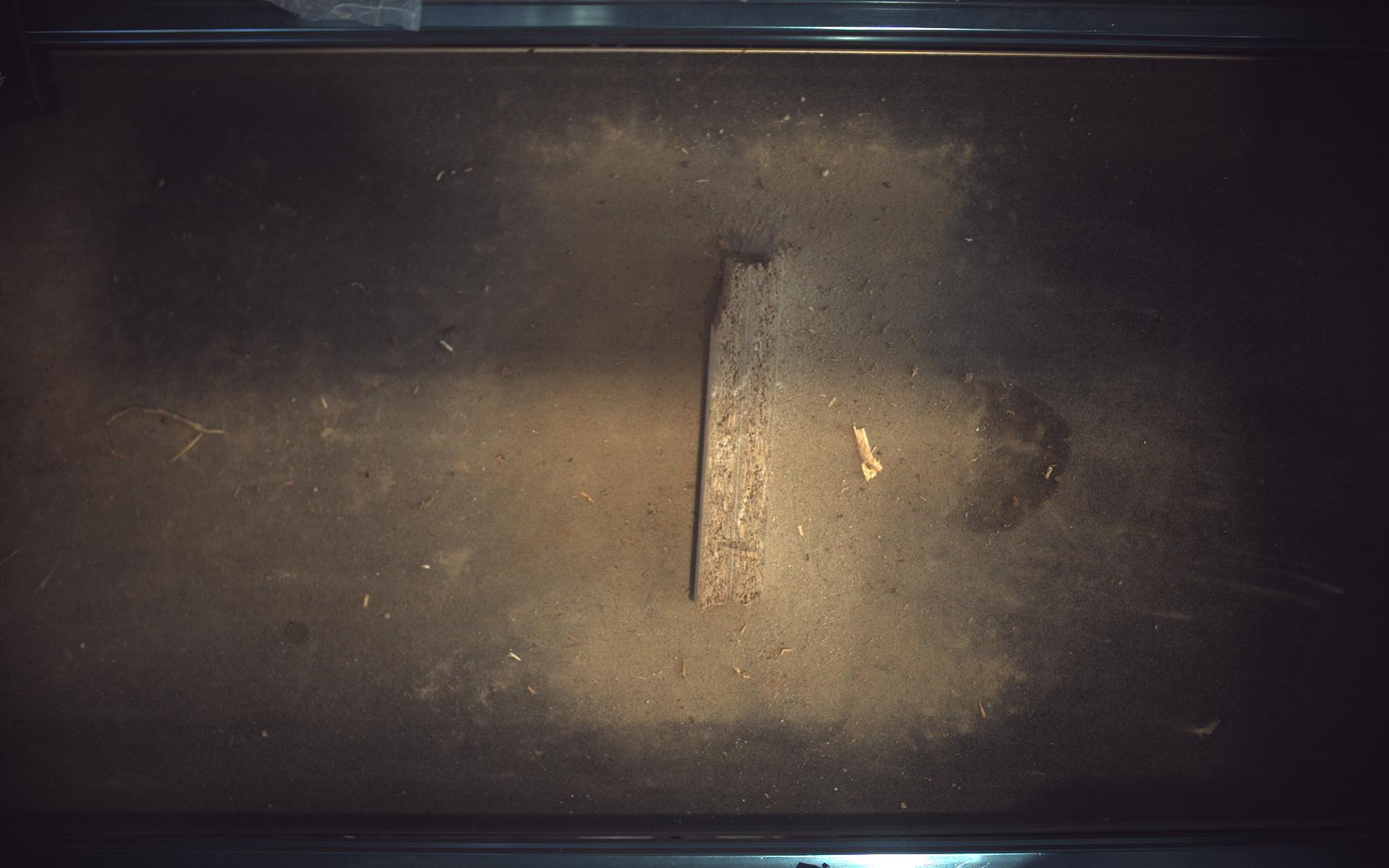wood: (694, 252, 784, 608)
